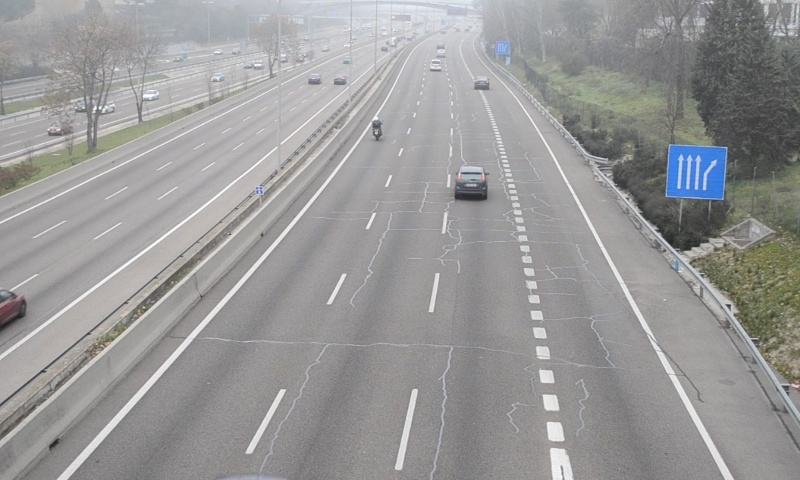car: (453, 166, 488, 202), (474, 76, 488, 90), (430, 59, 442, 72)
motorcycle: (370, 117, 383, 142)
